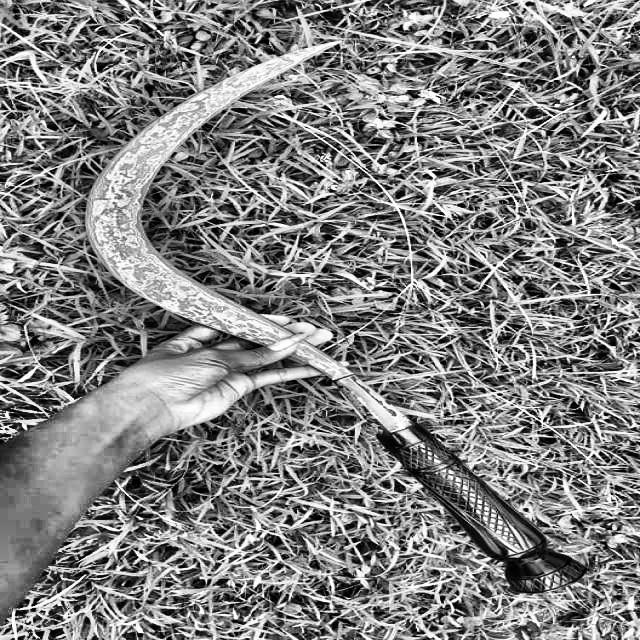celurit: (75, 40, 596, 606)
